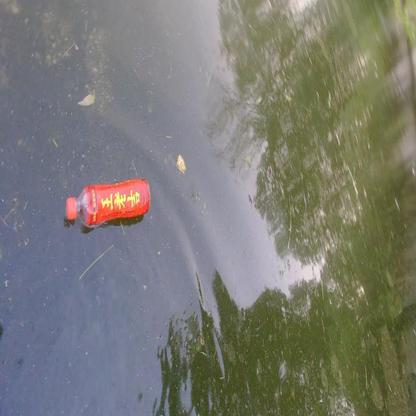plastic bottle: (65, 178, 152, 226)
